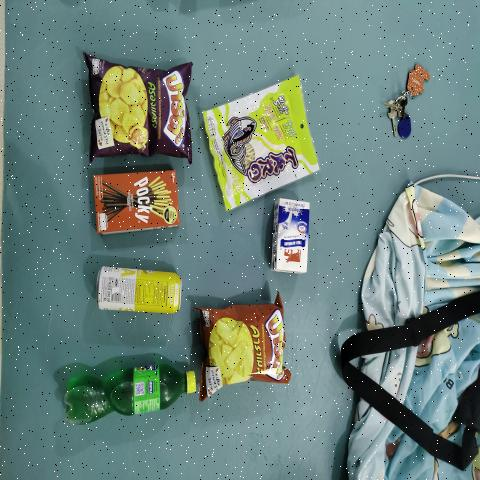fanta_green: (55, 354, 195, 433)
party_purple: (94, 70, 188, 150)
party_red: (205, 310, 281, 381)
pokki: (96, 174, 181, 228)
singha_yellow: (95, 263, 182, 319)
taro_yellow: (204, 101, 313, 173)
thai_denmark: (273, 201, 309, 276)
